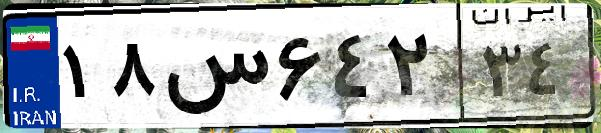1: (57, 26, 110, 100)
2: (385, 28, 445, 110)
3: (475, 38, 525, 113)
4: (330, 28, 385, 110), (525, 38, 570, 115)
6: (270, 28, 330, 110)
8: (110, 28, 158, 98)
س: (158, 20, 270, 120)
